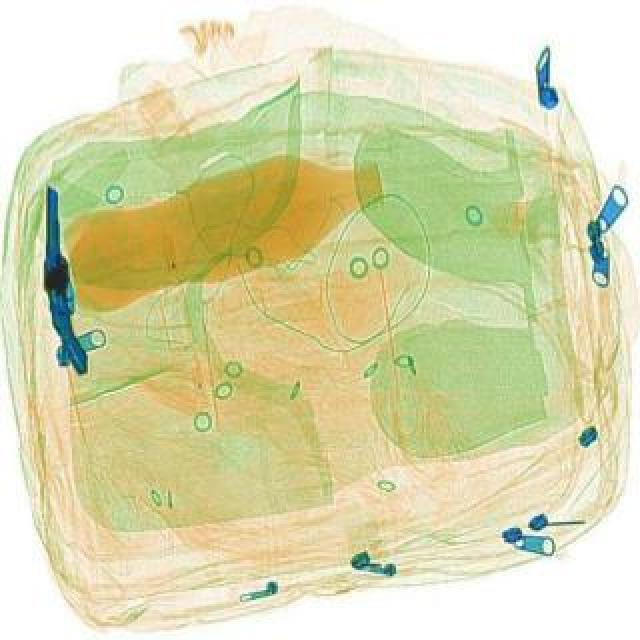gun: (36, 182, 86, 380)
